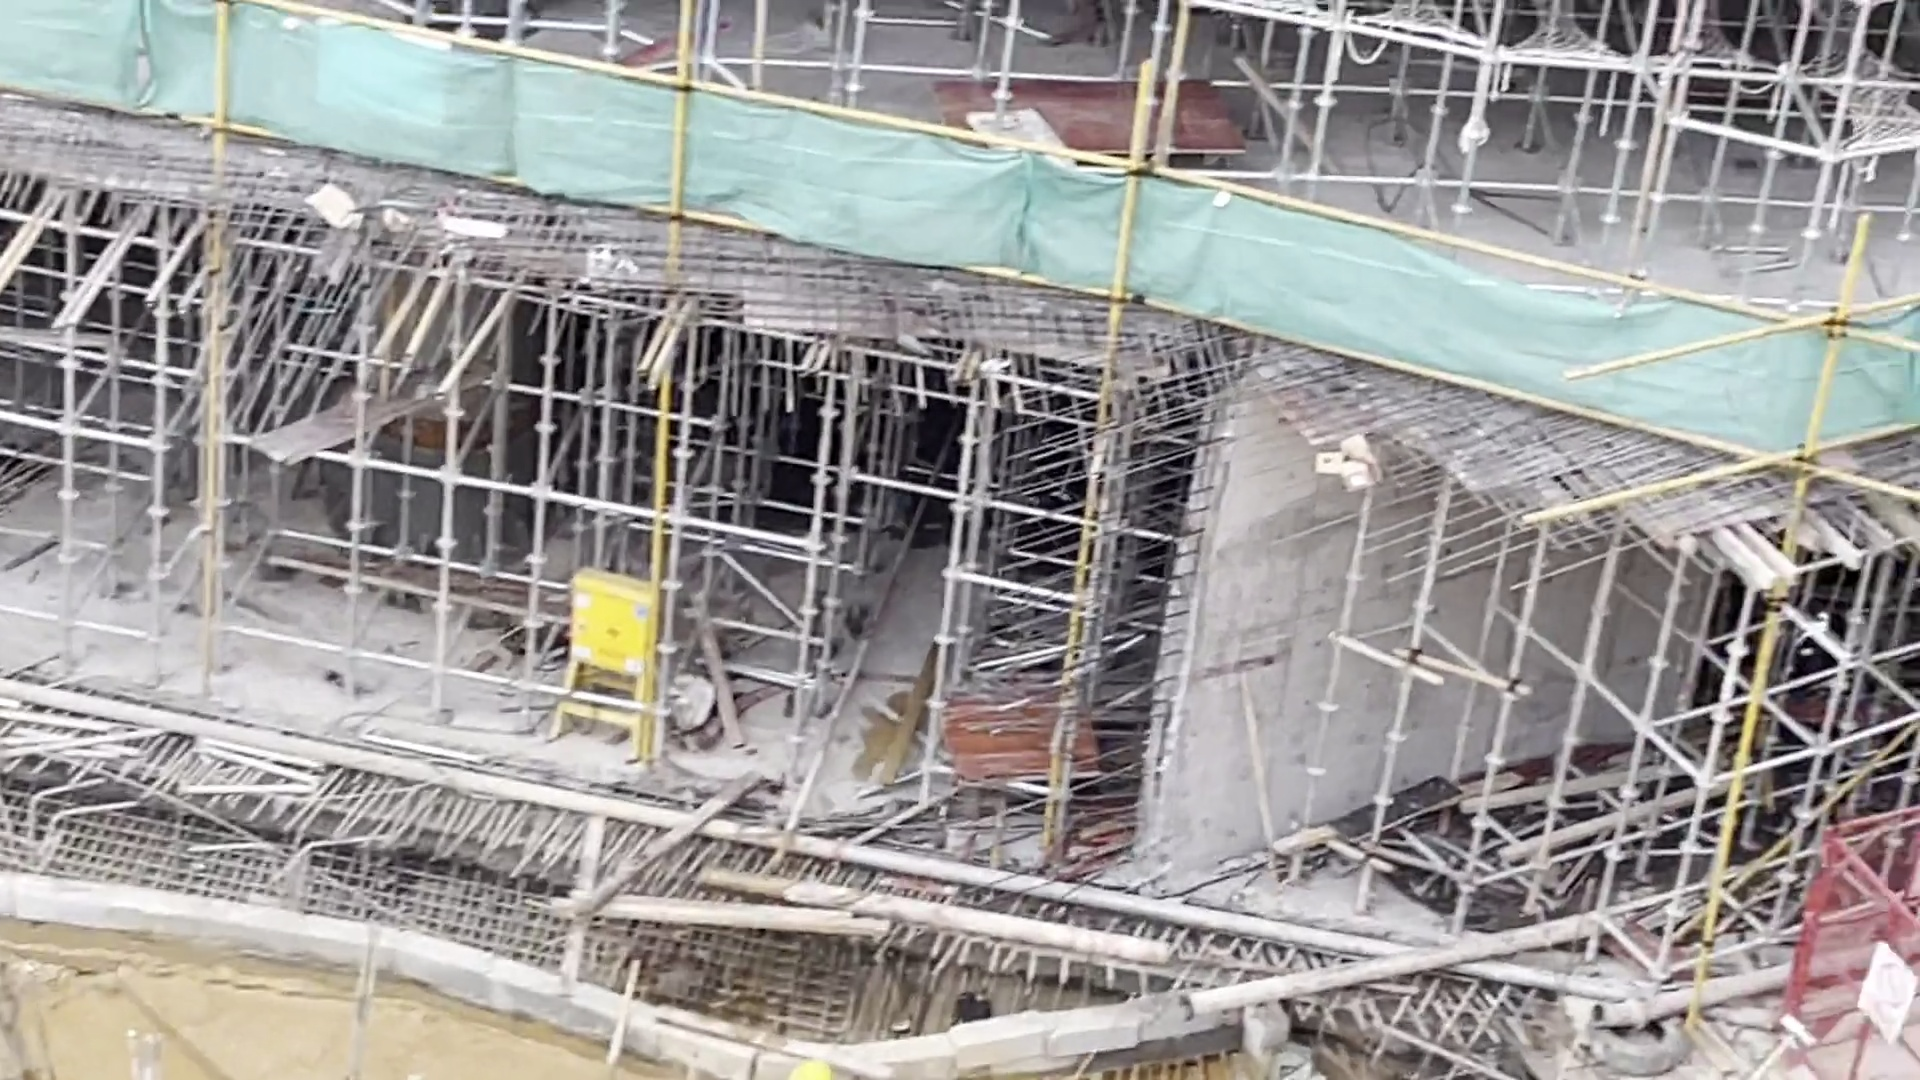ebox: (553, 564, 663, 764)
